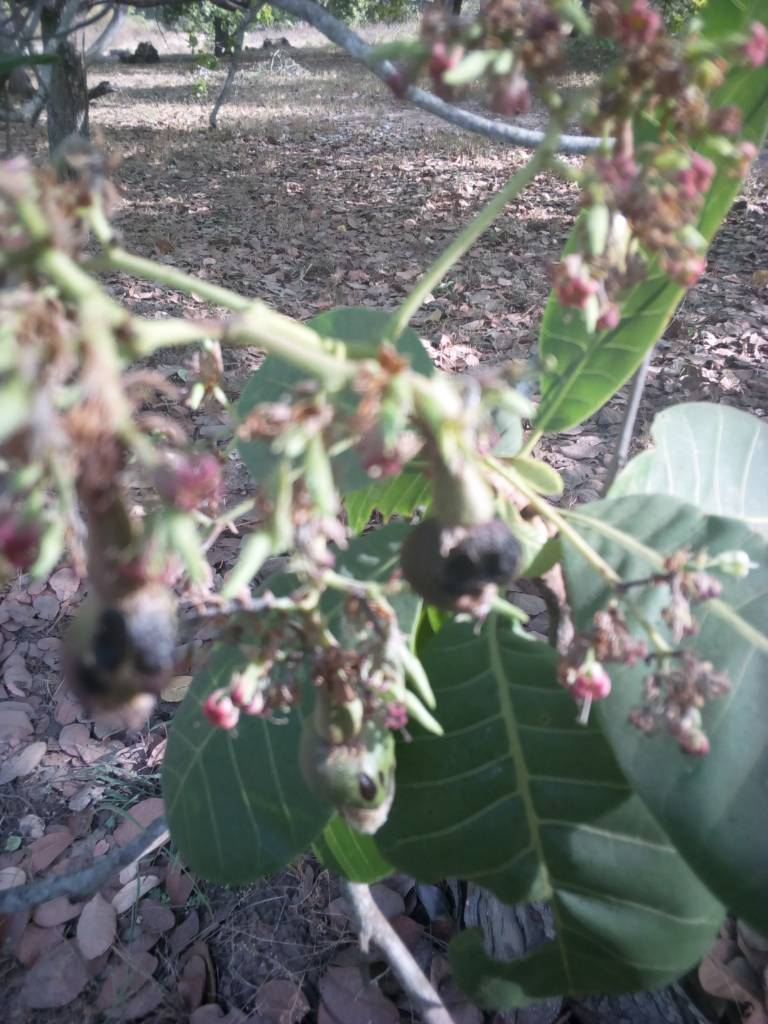Die-black: (51, 574, 191, 733), (390, 503, 536, 619)
